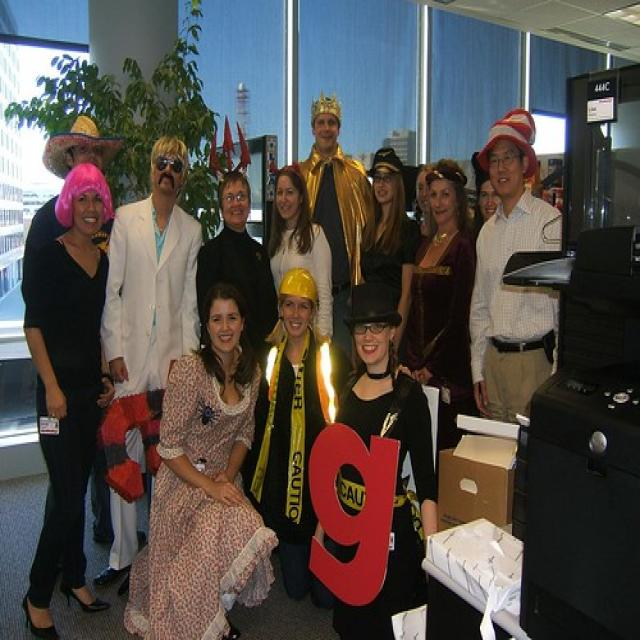Safety-Helmet: (278, 266, 318, 304)
